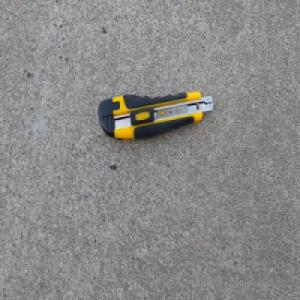Cutter: (96, 90, 215, 141)
